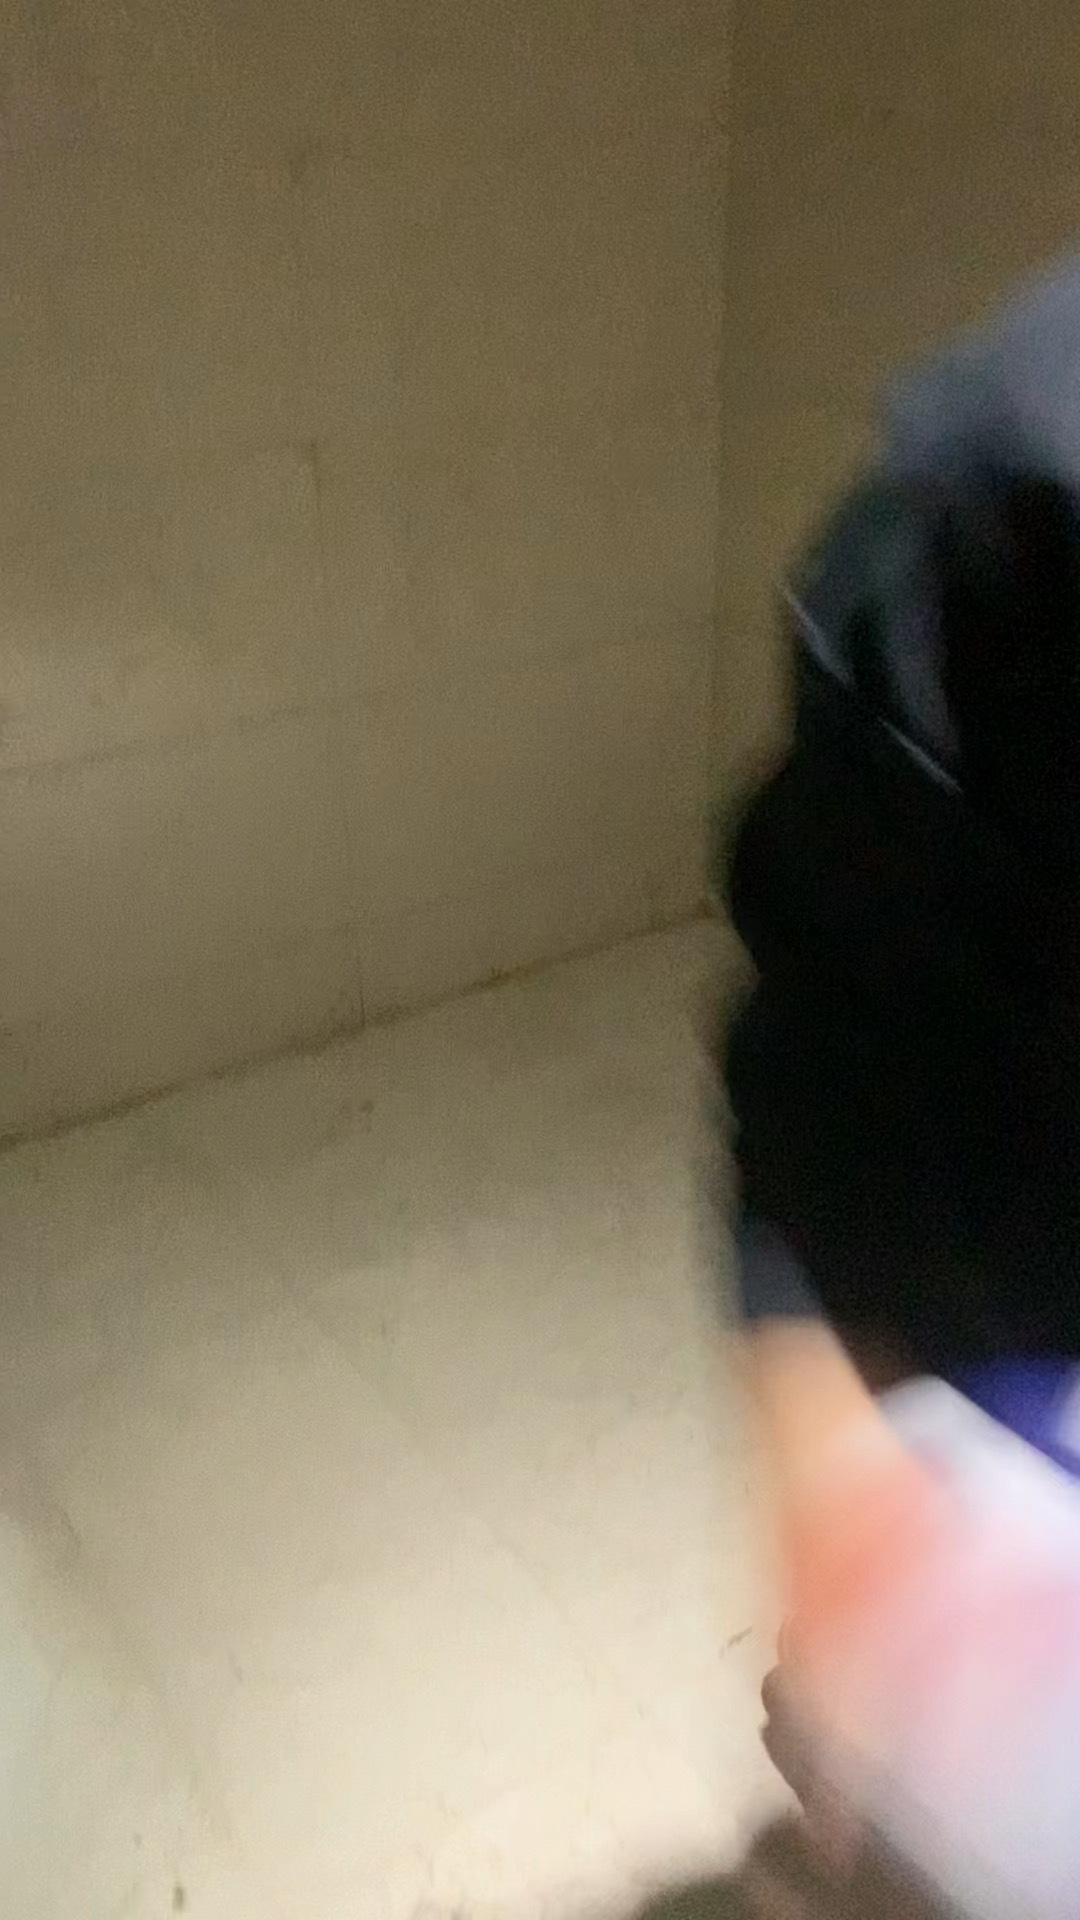ball: (771, 1327, 1080, 1920)
